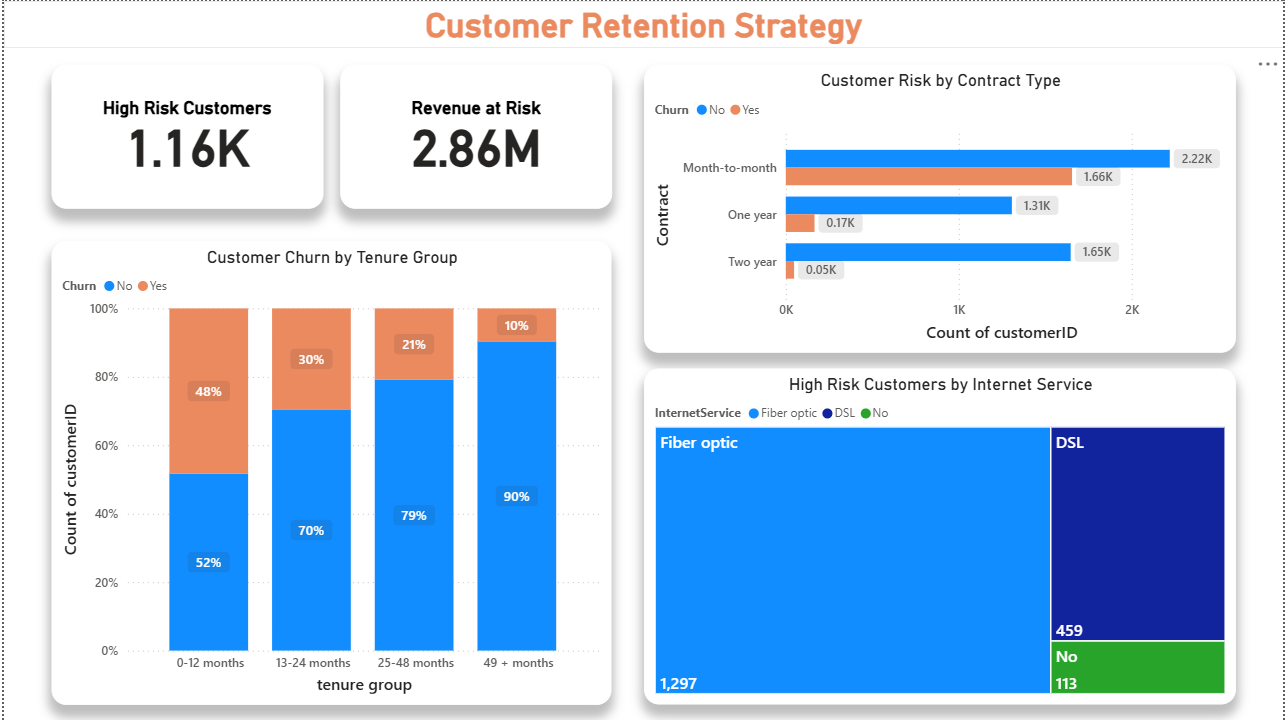

This screenshot's page, from the dashboard's own definition file:
{"tool":"powerbi","page":{"name":"customer retention stragegy","canvas":[1280,720],"ordinal":2},"visuals":[{"type":"cardVisual","fields":{"Data":["Customer-Churn-data.High Risk Customers"]},"box":[48,64,272,144],"z":0},{"type":"cardVisual","fields":{"Data":["Customer-Churn-data.revenue at risk"]},"box":[336,64,272,144],"z":1000},{"type":"clusteredBarChart","title":"Customer Risk by Contract Type","fields":{"Category":["Customer-Churn-data.Contract"],"Y":["CountNonNull(Customer-Churn-data.customerID)"],"Series":["Customer-Churn-data.Churn"]},"box":[640,64,592,288],"z":2000},{"type":"hundredPercentStackedColumnChart","title":"Customer Churn by Tenure Group","fields":{"Category":["Customer-Churn-data.tenure group"],"Y":["CountNonNull(Customer-Churn-data.customerID)"],"Series":["Customer-Churn-data.Churn"]},"box":[48,240,560,464],"z":3000},{"type":"treemap","title":"High Risk Customers by Internet Service","fields":{"Group":["Customer-Churn-data.InternetService"],"Values":["CountNonNull(Customer-Churn-data.customerID)"]},"box":[640,368,592,336],"z":4000},{"type":"textbox","box":[0,0,1280,48],"z":4001}]}

Visuals, with their boxes in screenshot pixels (x1, y1, x2, y2), scaled from the page's 1280x720 canvas onto the 1287x720 screenshot:
cardVisual - Customer-Churn-data.High Risk Customers: <region>48, 64, 322, 208</region>
cardVisual - Customer-Churn-data.revenue at risk: <region>338, 64, 611, 208</region>
"Customer Risk by Contract Type" clusteredBarChart: <region>644, 64, 1239, 352</region>
"Customer Churn by Tenure Group" hundredPercentStackedColumnChart: <region>48, 240, 611, 704</region>
"High Risk Customers by Internet Service" treemap: <region>644, 368, 1239, 704</region>
textbox: <region>0, 0, 1286, 48</region>
